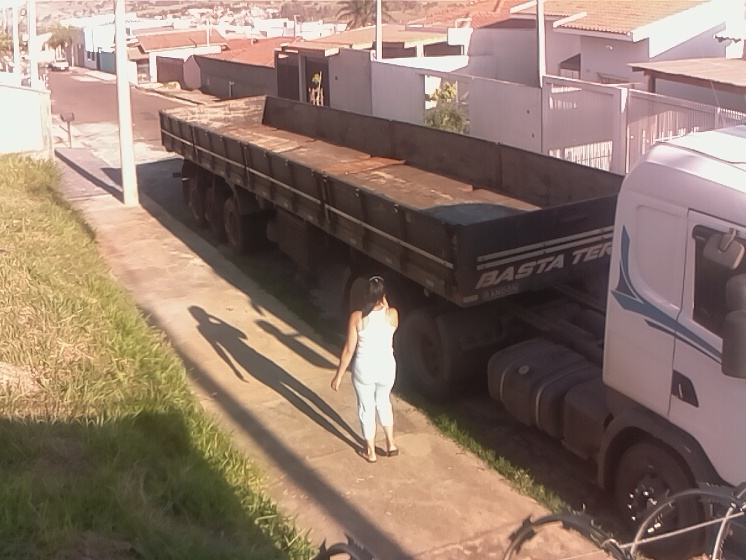person: (327, 273, 404, 466)
